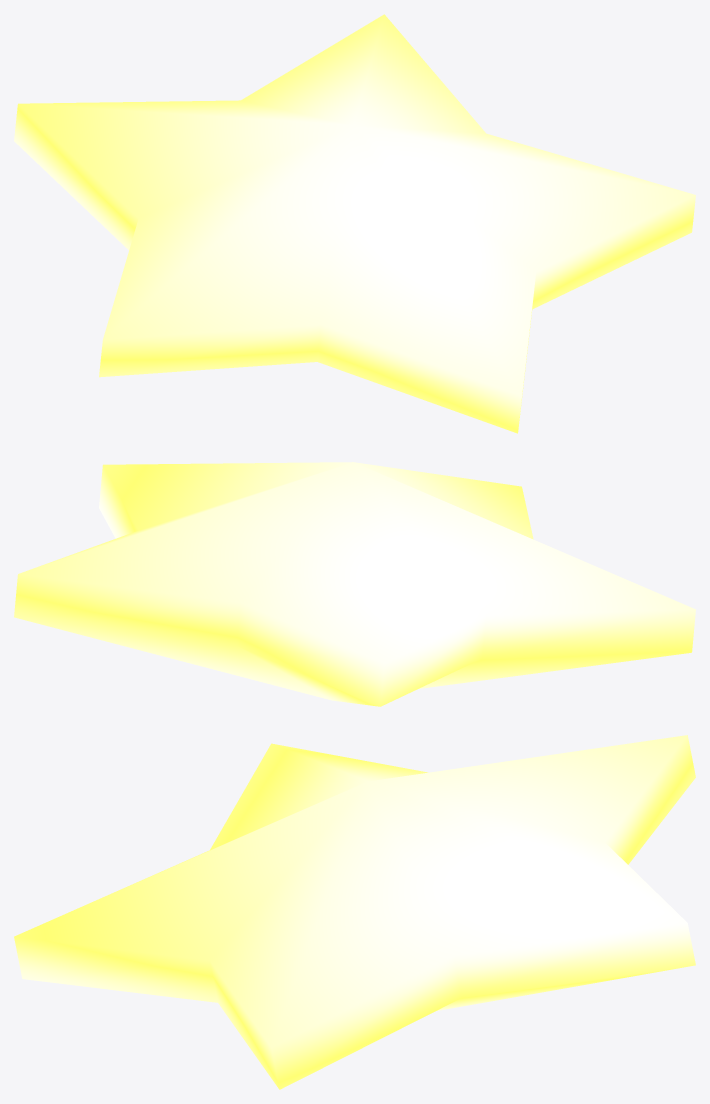
The model's file is star.gltf.
3 views of the same model, one above another, from view 1: azimuth 30°, elevation 25°; view 2: azimuth 150°, elevation 25°; view 3: azimuth 270°, elevation 25° (orthographic). The views are drawn at different scales.
Parts seen in each view (by area): view 1: Circle; view 2: Circle; view 3: Circle.
Part boxes in pixels (bbox=[...]): Circle: bbox=[14, 14, 695, 433]; Circle: bbox=[14, 462, 695, 706]; Circle: bbox=[14, 735, 695, 1089].
Bounding box in the file's own units: 9.54 × 3.42 × 9.05.
